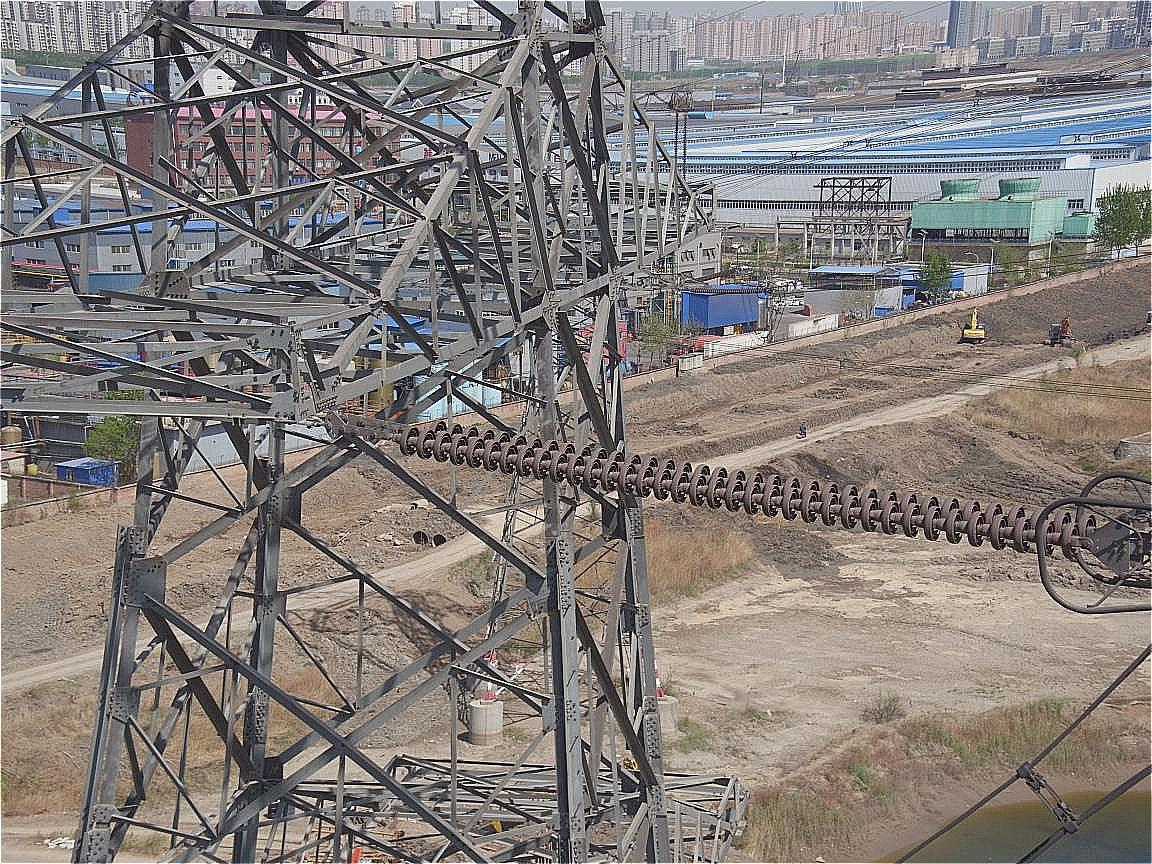insultor1: (380, 412, 1111, 569)
